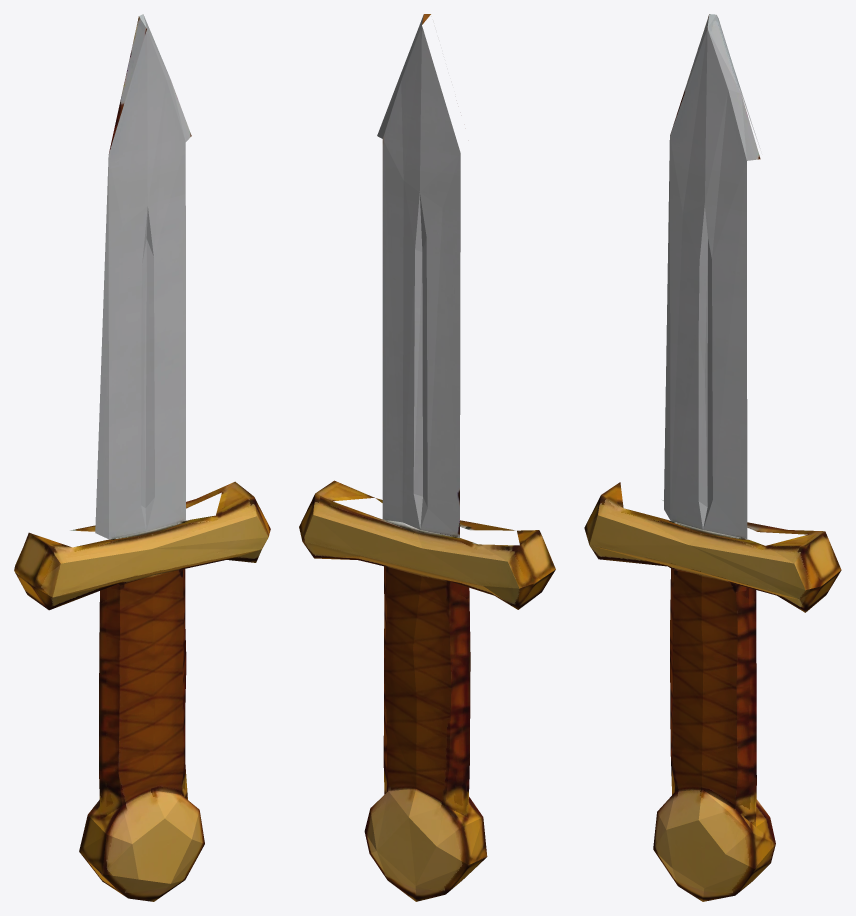
Rendered from short_sword.glb.
3 renders of one model, left to right at view 1: azimuth 30°, elevation 25°; view 2: azimuth 150°, elevation 25°; view 3: azimuth 330°, elevation 25°, orthographic.
Visible parts, largest first — view 1: TexturedMesh_.obj; view 2: TexturedMesh_.obj; view 3: TexturedMesh_.obj.
Boxes of the visible parts, <box> form: TexturedMesh_.obj: <box>14,14,270,901</box>; TexturedMesh_.obj: <box>299,14,555,901</box>; TexturedMesh_.obj: <box>584,14,841,901</box>.
Bounding box in the file's own units: 0.5558 × 1.97 × 0.1553.
1 material, 1 textured.
